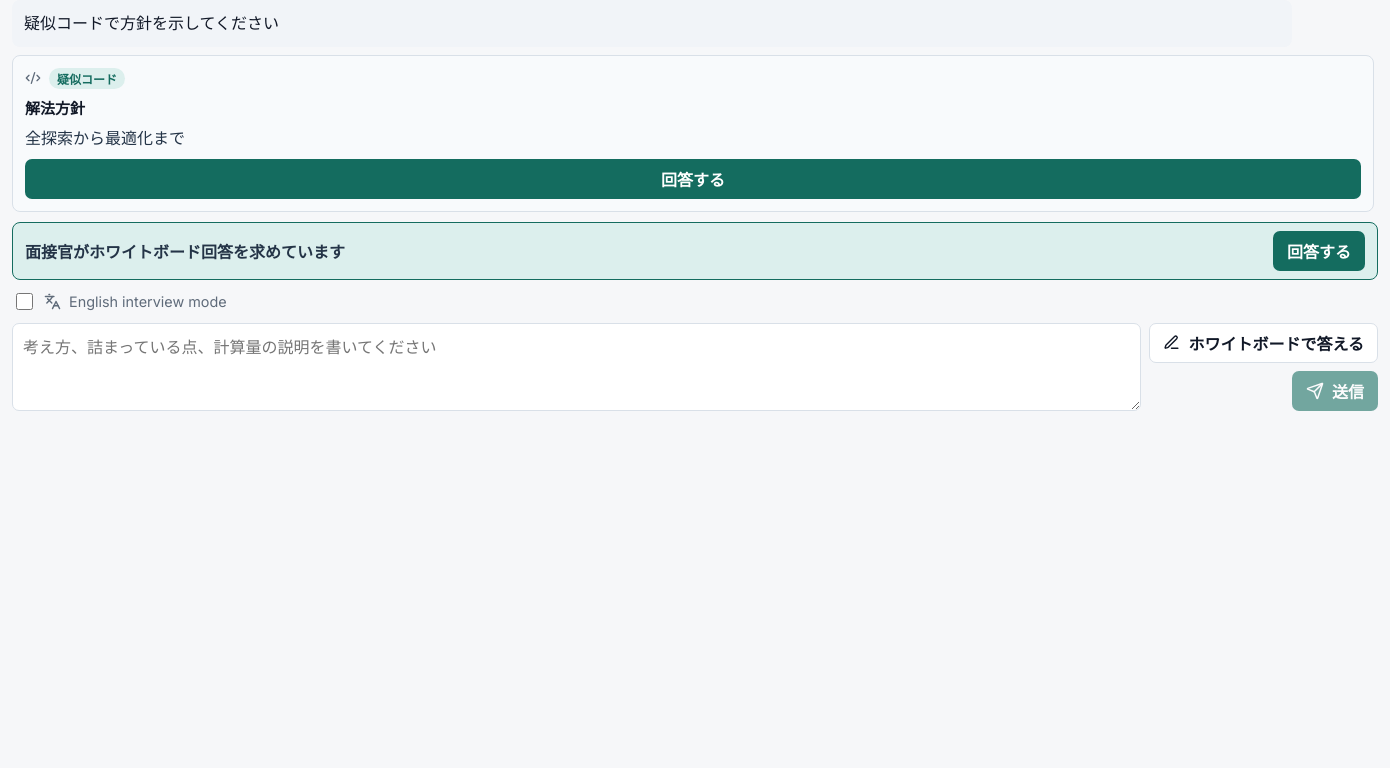
it: AIChat › shows the pending affordance for an open request and opens a seeded composer
Expected: the text "面接官がホワイトボード回答を求めています" is shown, [25,239,345,263]
Step 1. Click the button "回答する" below "全探索から最適化まで" → click(693, 179), box [25,159,1361,199]
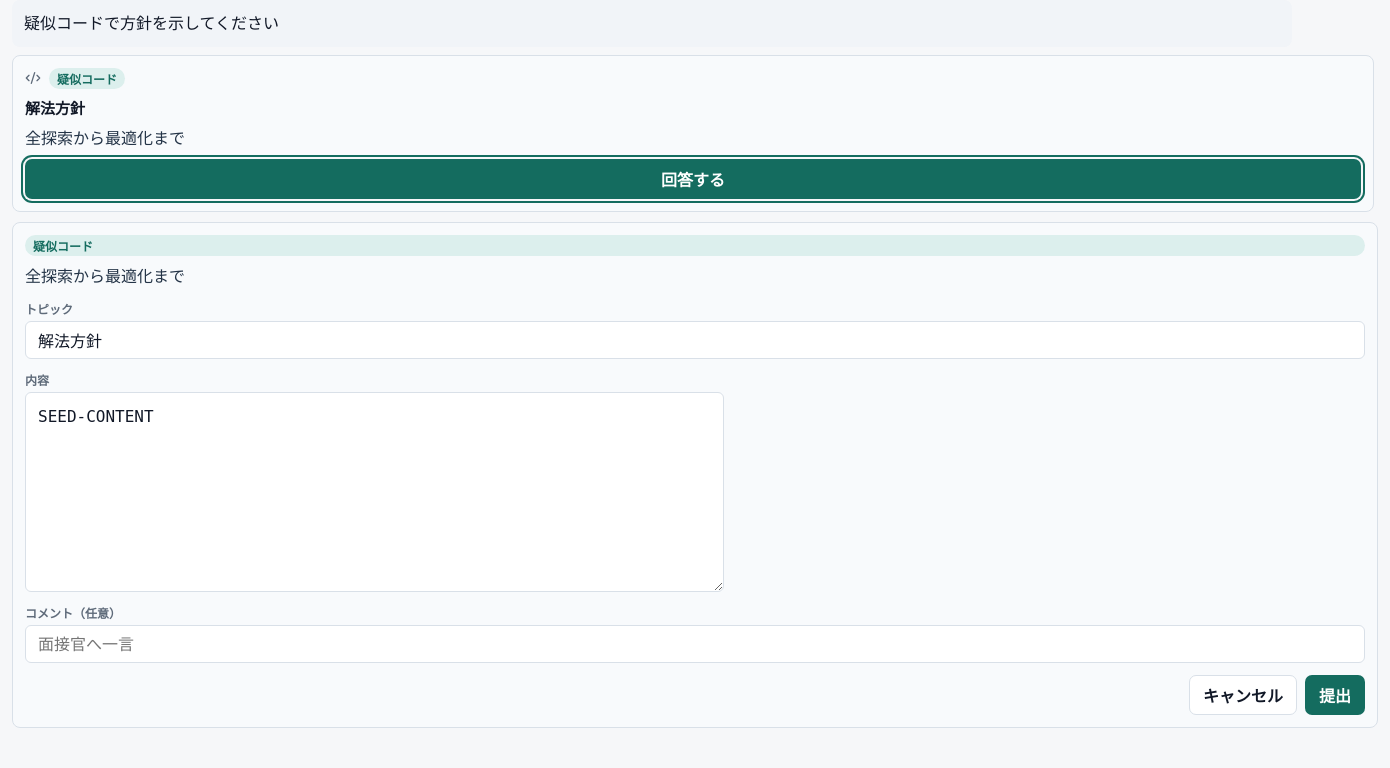
Result: the text box labelled "内容" holds "SEED-CONTENT" at [25,392,724,592]
Result: the text "面接官がホワイトボード回答を求めています" is gone
